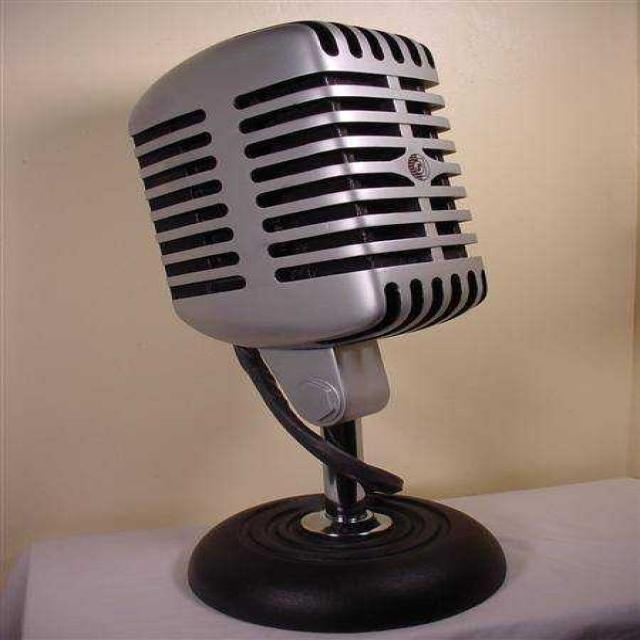microphone: (125, 22, 502, 630)
